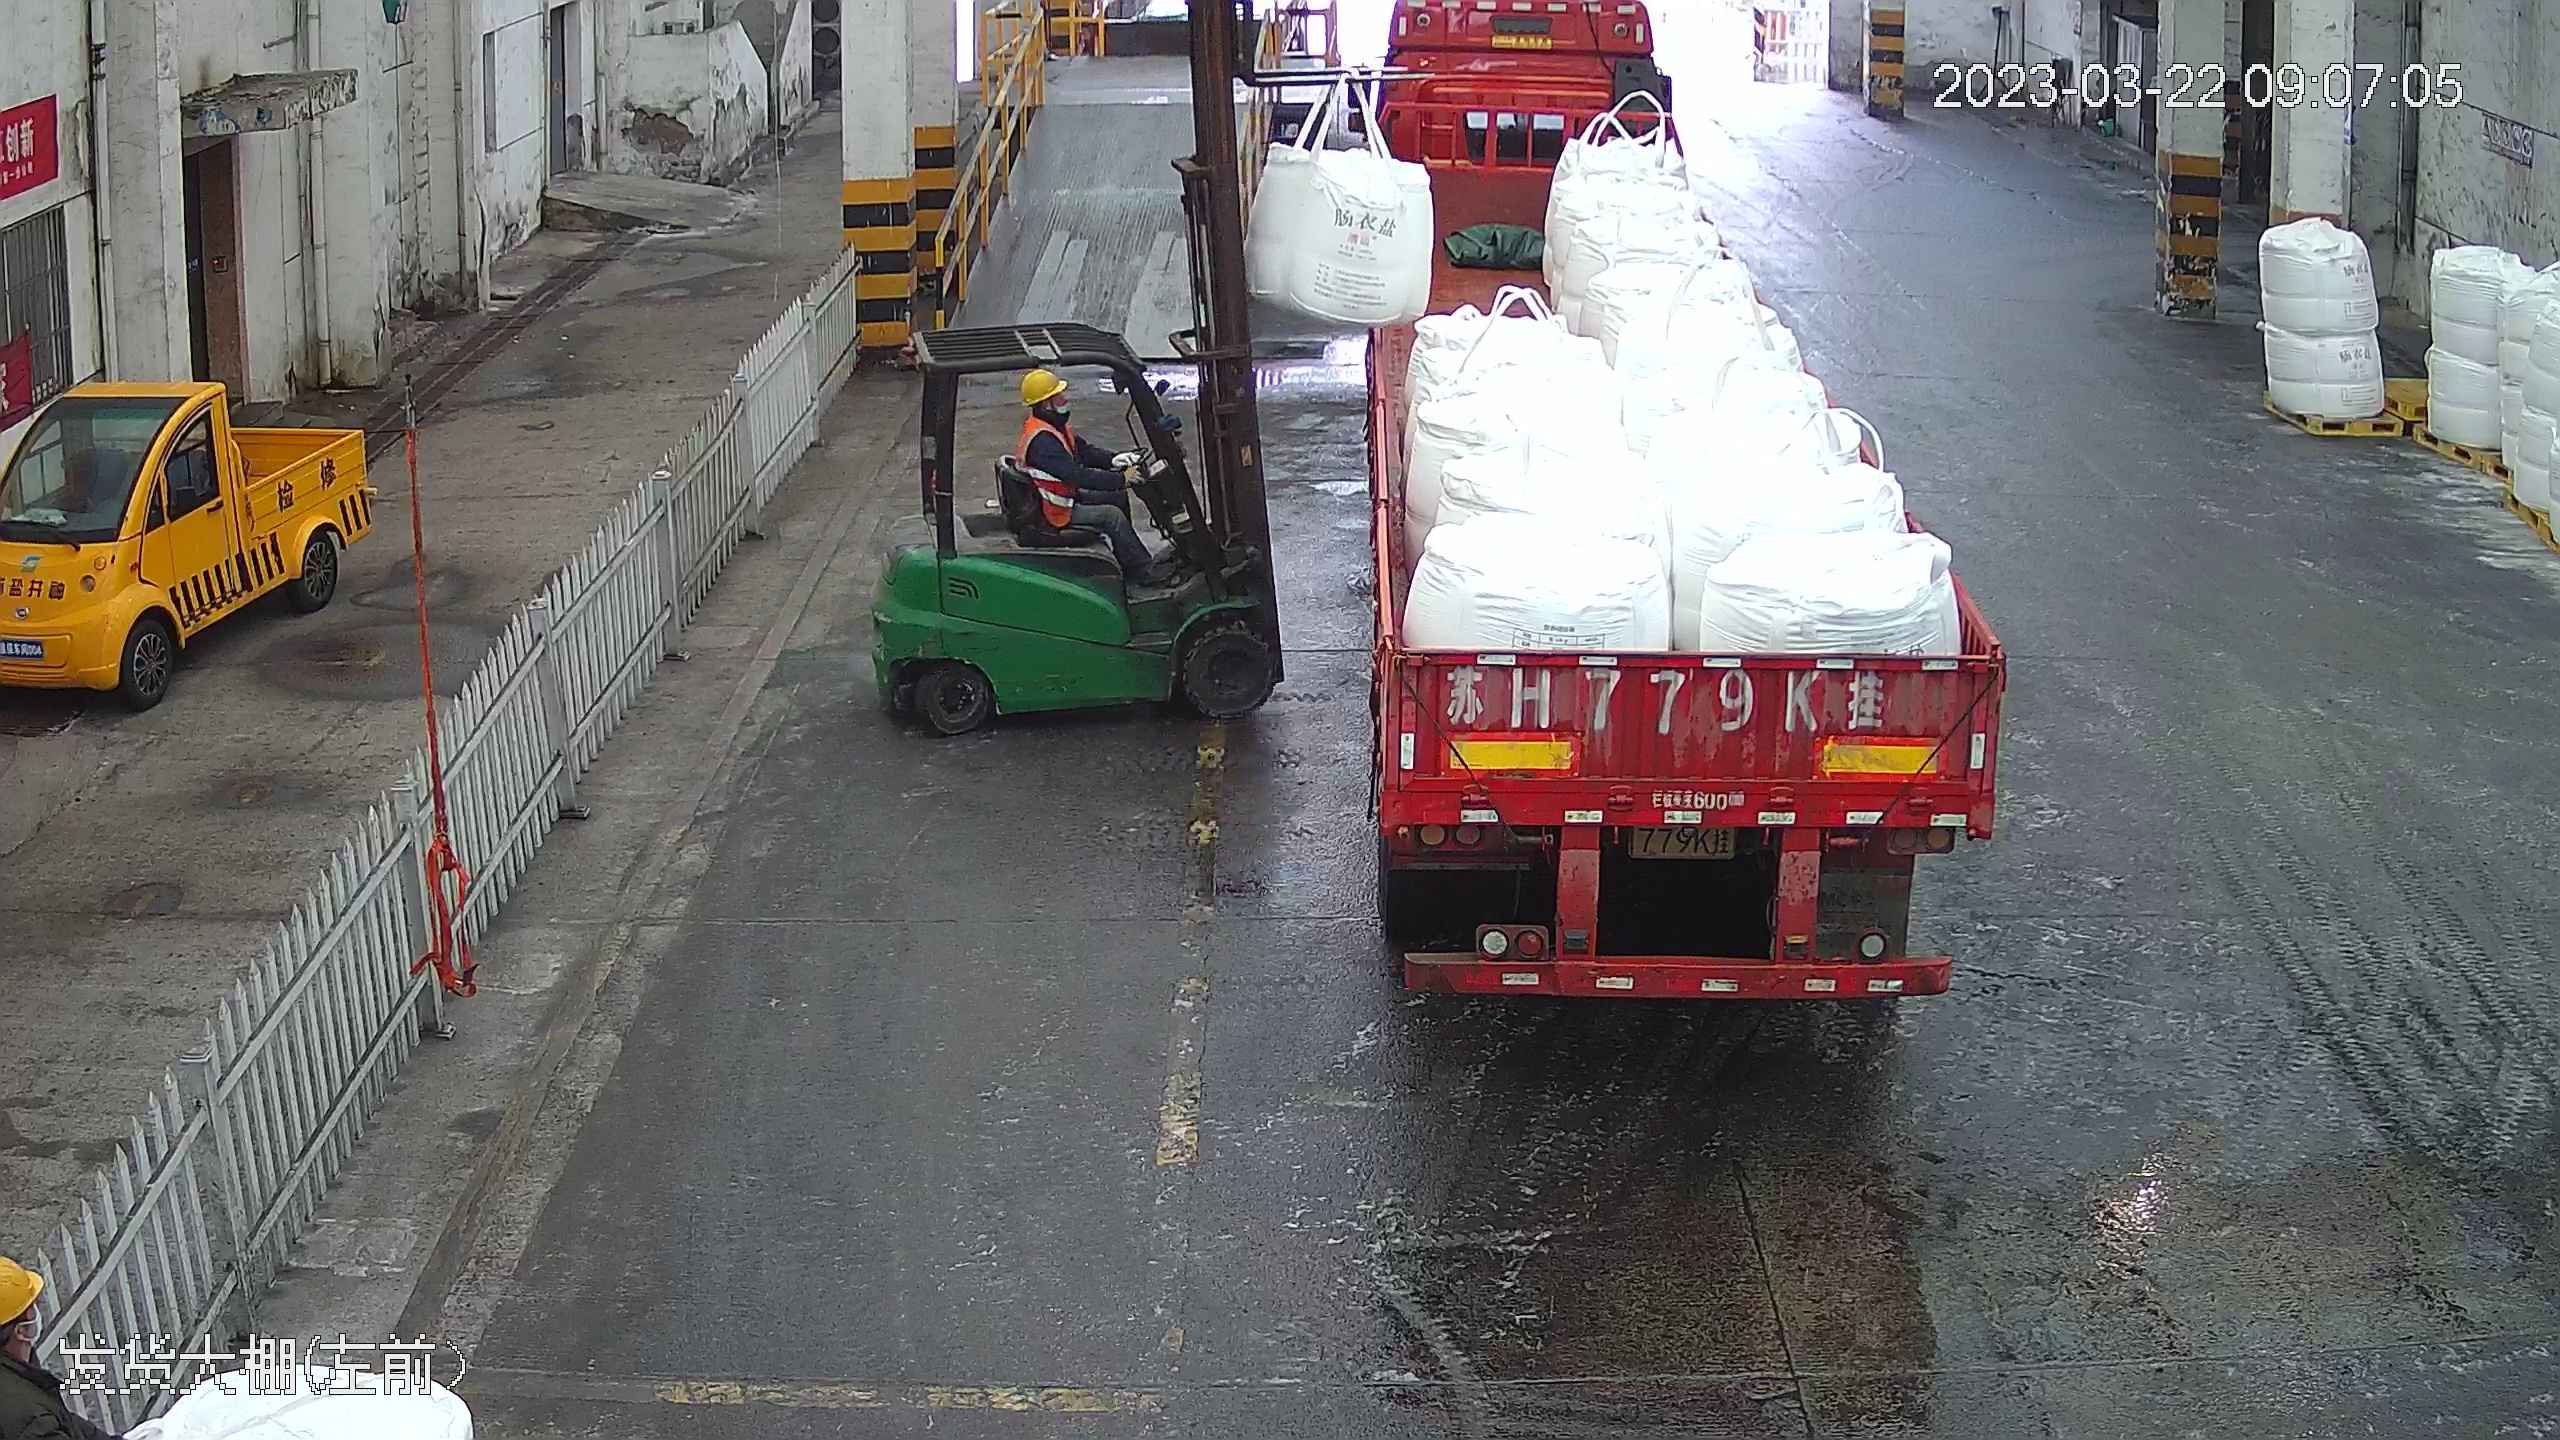head: (1012, 365, 1085, 466)
helmet: (2, 1250, 45, 1326), (1020, 366, 1069, 406)
people: (1011, 364, 1163, 584)
truck: (1345, 0, 1999, 1000)
